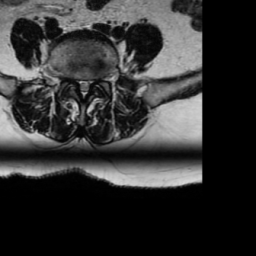CCS_normal: (80, 74, 87, 102)
LFS_severe_stenosis: (94, 71, 101, 89)
LLS_severe_stenosis: (87, 74, 94, 93)
RFS_severe_stenosis: (67, 70, 74, 90)
RLS_severe_stenosis: (74, 73, 80, 91)
